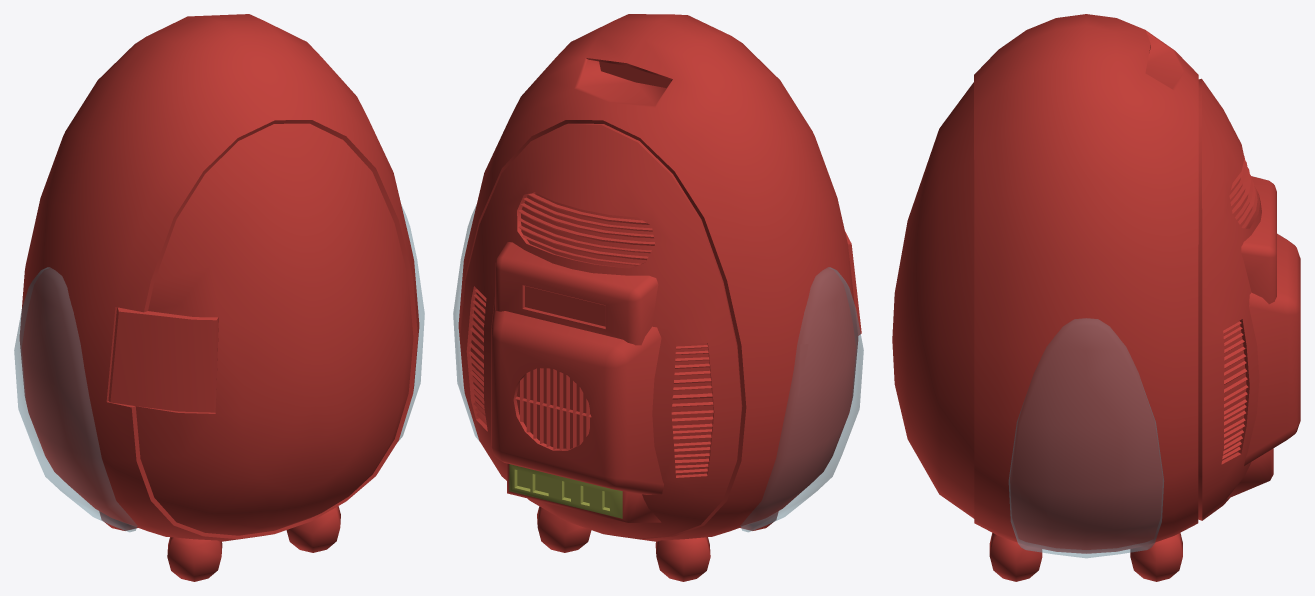
The model's file is DXBX10L.FBX.
The picture shows the model from 3 angles, left to right: view 1: azimuth 30°, elevation 25°; view 2: azimuth 150°, elevation 25°; view 3: azimuth 270°, elevation 25°; orthographic projection.
Parts seen in each view (by area): view 1: DXBX10L; view 2: DXBX10L; view 3: DXBX10L.
Part boxes in pixels (x1,y1,x2,y2): DXBX10L: [14, 14, 424, 581]; DXBX10L: [453, 14, 863, 581]; DXBX10L: [892, 14, 1300, 581].
Bounding box in the file's own units: 33.8 × 32.2 × 45.6.
